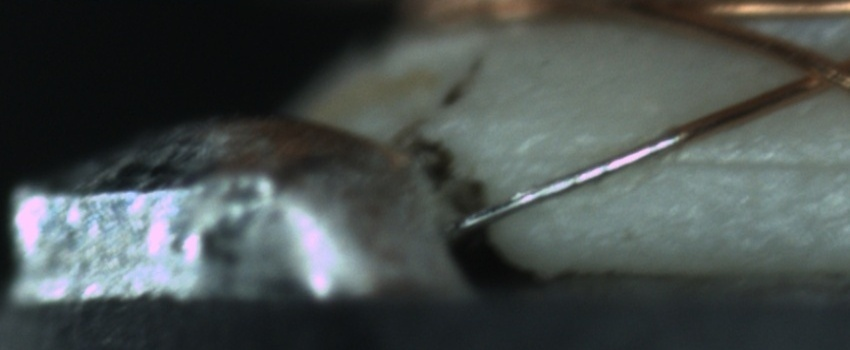CL: (778, 39, 846, 100)
DL: (666, 130, 849, 198)
TS: (458, 127, 689, 232)
